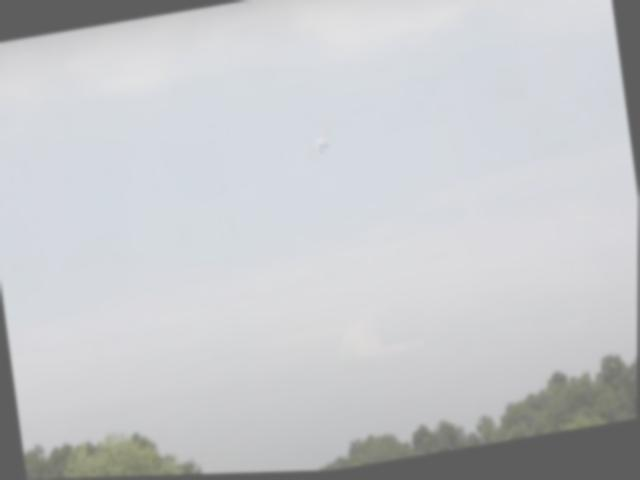uav: (300, 125, 337, 165)
